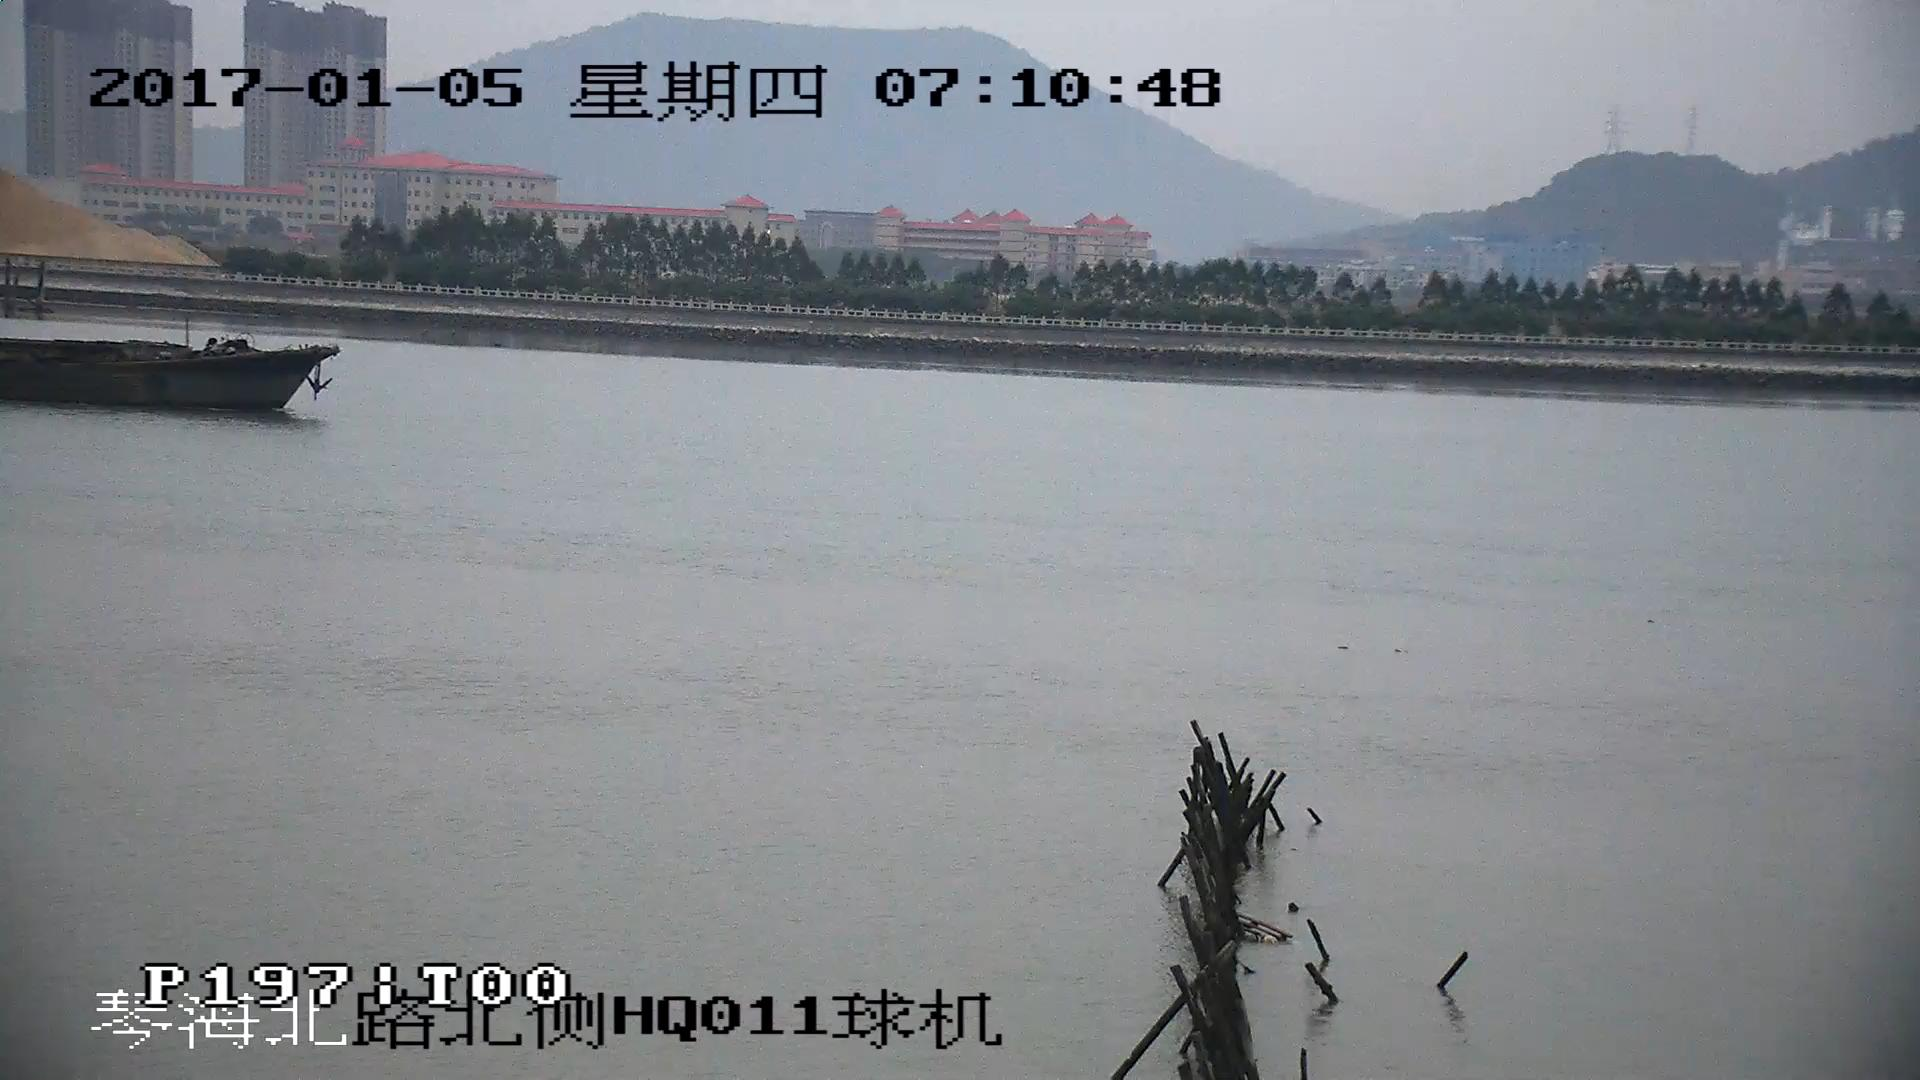bulk cargo carrier: (1, 337, 338, 411)
